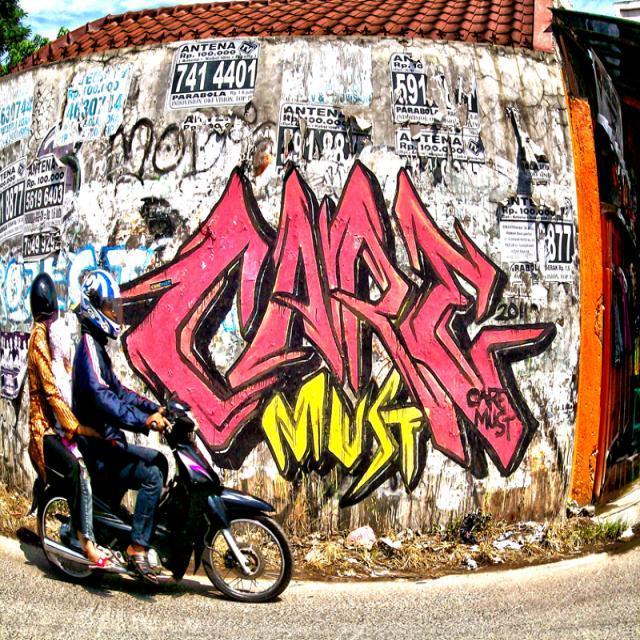-: (122, 167, 558, 507), (107, 99, 260, 185), (2, 246, 154, 321)
